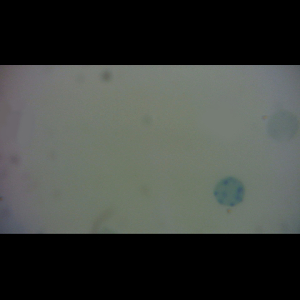aggregate reticulocyte: (212, 176, 246, 208)
punctate reticulocyte: (266, 109, 300, 143)
